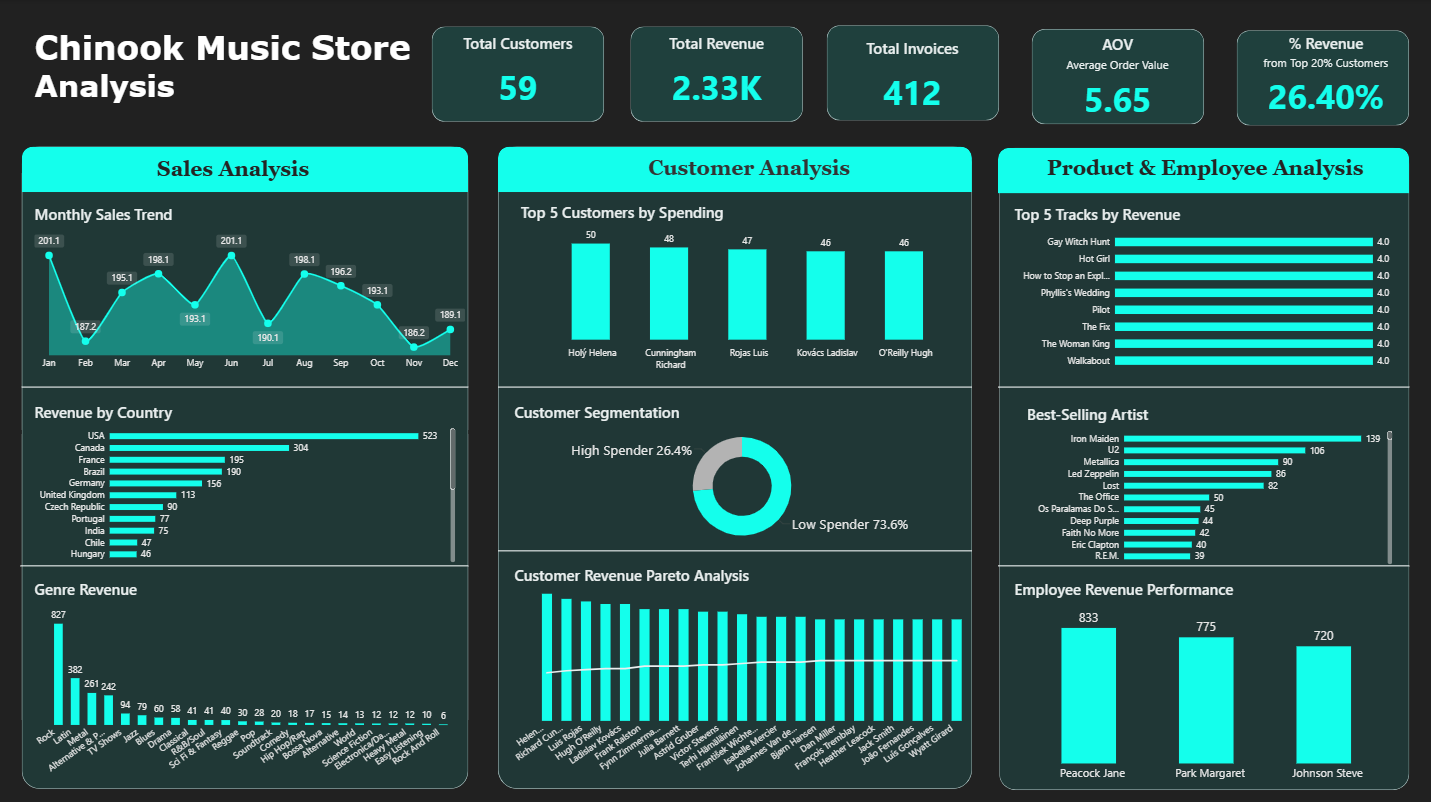

This screenshot's page, from the dashboard's own definition file:
{"tool":"powerbi","page":{"name":"Overview","canvas":[2560,1440],"ordinal":0},"visuals":[{"type":"shape","box":[1018.6,46.5,307,169.8],"z":0,"group":"g1"},{"type":"shape","box":[1407,51.2,307,169.8],"z":0,"group":"g2"},{"type":"shape","box":[2158.1,51.2,307,169.8],"z":0,"group":"g4"},{"type":"shape","box":[1781.4,53.5,307,169.8],"z":0,"group":"g3"},{"type":"shape","box":[41.9,262.8,795.4,1144.2],"z":0},{"type":"shape","box":[1783.7,265.1,730.2,1144.2],"z":1000},{"type":"card","title":"Total Revenue","fields":{"Values":["measures_.Total Revenue"]},"box":[1018.6,58.1,307,153.5],"z":2000,"group":"g1"},{"type":"card","title":"AOV","fields":{"Values":["measures_.AOV"]},"box":[1793,62.8,283.7,158.1],"z":2000,"group":"g3"},{"type":"card","title":"Total Invoices","fields":{"Values":["measures_.Total Invoices"]},"box":[1427.9,74.5,265.1,153.5],"z":2000,"group":"g2"},{"type":"shape","box":[890.7,262.8,844.2,1144.2],"z":2000},{"type":"lineChart","title":"Monthly Sales Trend","fields":{"Category":["public invoice.Month Name"],"Y":["measures_.Total Revenue"]},"box":[60.5,365.1,776.7,304.7],"z":3000},{"type":"clusteredBarChart","title":"Revenue by Country","fields":{"Category":["public invoice.billing_country"],"Y":["measures_.Total Revenue"]},"box":[60.1,716.9,759.2,291.7],"z":4000},{"type":"clusteredColumnChart","title":"Genre Revenue","fields":{"Category":["public genre.name"],"Y":["measures_.Genre Revenue"]},"box":[60.5,1032.6,758.1,358.1],"z":5000},{"type":"clusteredBarChart","title":"Top 5 Tracks by Revenue","fields":{"Category":["public track.name"],"Y":["measures_.Track Revenue"]},"box":[1804.7,360.5,686,316.3],"z":6000},{"type":"clusteredBarChart","title":"Best-Selling Artist","fields":{"Category":["public artist.name"],"Y":["measures_.Artist Revenue"]},"box":[1827.9,720.9,660.5,290.7],"z":7000},{"type":"clusteredColumnChart","title":"Employee Revenue Performance","fields":{"Category":["public employee.Employee name"],"Y":["measures_.Artist Revenue"]},"box":[1804.7,1032.6,707,369.8],"z":8000},{"type":"card","title":"% Revenue","fields":{"Values":["measures_.Pct Revenue From Top20 (Count)"]},"box":[2169.7,55.9,295.3,153.5],"z":9000,"group":"g4"},{"type":"clusteredColumnChart","title":"Top 5 Customers by Spending","fields":{"Category":["public customer.customer name"],"Y":["measures_.Artist Revenue"]},"box":[917.3,365.1,819.3,309.5],"z":9000},{"type":"donutChart","title":"Customer Segmentation","fields":{"Category":["CustomerSpend.SpenderType"],"Y":["Sum(CustomerSpend.TotalSpend)"]},"box":[914,716.3,820.9,267.4],"z":10000},{"type":"lineClusteredColumnComboChart","title":"Customer Revenue Pareto Analysis","fields":{"Category":["CustomerSpend.FullName"],"Y":["Sum(CustomerSpend.TotalSpend)"],"Y2":["CustomerSpend.Cumulative %"]},"box":[914,1009.3,820.9,381.4],"z":11000},{"type":"group","id":"g1","title":"Group 1","box":[1018.6,46.5,307,169.8],"z":12000},{"type":"group","id":"g2","title":"Group 2","box":[1407,51.2,307,176.7],"z":13000},{"type":"group","id":"g3","title":"Group 3","box":[1781.4,53.5,307,169.8],"z":14000},{"type":"group","id":"g4","title":"Group 4","box":[2158.1,51.2,307,169.8],"z":15000},{"type":"shape","box":[890.7,614,844.2,153.5],"z":16000},{"type":"shape","box":[890.7,907,844.2,153.5],"z":17000},{"type":"shape","box":[890.7,262.8,844.2,81.4],"z":18000},{"type":"shape","box":[41.9,262.8,795.4,81.4],"z":19000},{"type":"shape","box":[1781.4,265.1,732.6,81.4],"z":20000},{"type":"shape","box":[1781.4,932.6,732.6,153.5],"z":21000},{"type":"shape","box":[1781.4,614,732.6,153.5],"z":22000},{"type":"shape","box":[41.9,614,795.4,153.5],"z":23000},{"type":"shape","box":[39.5,932.6,797.7,153.5],"z":24000},{"type":"textbox","box":[1153.5,274.4,420.9,72.1],"z":25000},{"type":"textbox","box":[279.1,276.7,297.7,72.1],"z":26000},{"type":"textbox","box":[1862.8,274.4,667.4,72.1],"z":27000},{"type":"textbox","box":[102.3,44.2,651.2,197.7],"z":28000}]}

Visuals, with their boxes in screenshot pixels (x1, y1, x2, y2), scaled from the page's 2560x1440 canvas onto the 1431x802 screenshot:
shape: pyautogui.locateOnScreen(569, 26, 741, 120)
shape: pyautogui.locateOnScreen(786, 29, 958, 123)
shape: pyautogui.locateOnScreen(1206, 29, 1378, 123)
shape: pyautogui.locateOnScreen(996, 30, 1167, 124)
shape: pyautogui.locateOnScreen(23, 146, 468, 784)
shape: pyautogui.locateOnScreen(997, 148, 1405, 785)
"Total Revenue" card: pyautogui.locateOnScreen(569, 32, 741, 118)
"AOV" card: pyautogui.locateOnScreen(1002, 35, 1161, 123)
"Total Invoices" card: pyautogui.locateOnScreen(798, 41, 946, 127)
shape: pyautogui.locateOnScreen(498, 146, 970, 784)
"Monthly Sales Trend" lineChart: pyautogui.locateOnScreen(34, 203, 468, 373)
"Revenue by Country" clusteredBarChart: pyautogui.locateOnScreen(34, 399, 458, 562)
"Genre Revenue" clusteredColumnChart: pyautogui.locateOnScreen(34, 575, 458, 775)
"Top 5 Tracks by Revenue" clusteredBarChart: pyautogui.locateOnScreen(1009, 201, 1392, 377)
"Best-Selling Artist" clusteredBarChart: pyautogui.locateOnScreen(1022, 402, 1391, 563)
"Employee Revenue Performance" clusteredColumnChart: pyautogui.locateOnScreen(1009, 575, 1404, 781)
"% Revenue" card: pyautogui.locateOnScreen(1213, 31, 1378, 117)
"Top 5 Customers by Spending" clusteredColumnChart: pyautogui.locateOnScreen(513, 203, 971, 376)
"Customer Segmentation" donutChart: pyautogui.locateOnScreen(511, 399, 970, 548)
"Customer Revenue Pareto Analysis" lineClusteredColumnComboChart: pyautogui.locateOnScreen(511, 562, 970, 775)
"Group 1" group: pyautogui.locateOnScreen(569, 26, 741, 120)
"Group 2" group: pyautogui.locateOnScreen(786, 29, 958, 127)
"Group 3" group: pyautogui.locateOnScreen(996, 30, 1167, 124)
"Group 4" group: pyautogui.locateOnScreen(1206, 29, 1378, 123)
shape: pyautogui.locateOnScreen(498, 342, 970, 427)
shape: pyautogui.locateOnScreen(498, 505, 970, 591)
shape: pyautogui.locateOnScreen(498, 146, 970, 192)
shape: pyautogui.locateOnScreen(23, 146, 468, 192)
shape: pyautogui.locateOnScreen(996, 148, 1405, 193)
shape: pyautogui.locateOnScreen(996, 519, 1405, 605)
shape: pyautogui.locateOnScreen(996, 342, 1405, 427)
shape: pyautogui.locateOnScreen(23, 342, 468, 427)
shape: pyautogui.locateOnScreen(22, 519, 468, 605)
textbox: pyautogui.locateOnScreen(645, 153, 880, 193)
textbox: pyautogui.locateOnScreen(156, 154, 322, 194)
textbox: pyautogui.locateOnScreen(1041, 153, 1414, 193)
textbox: pyautogui.locateOnScreen(57, 25, 421, 135)
